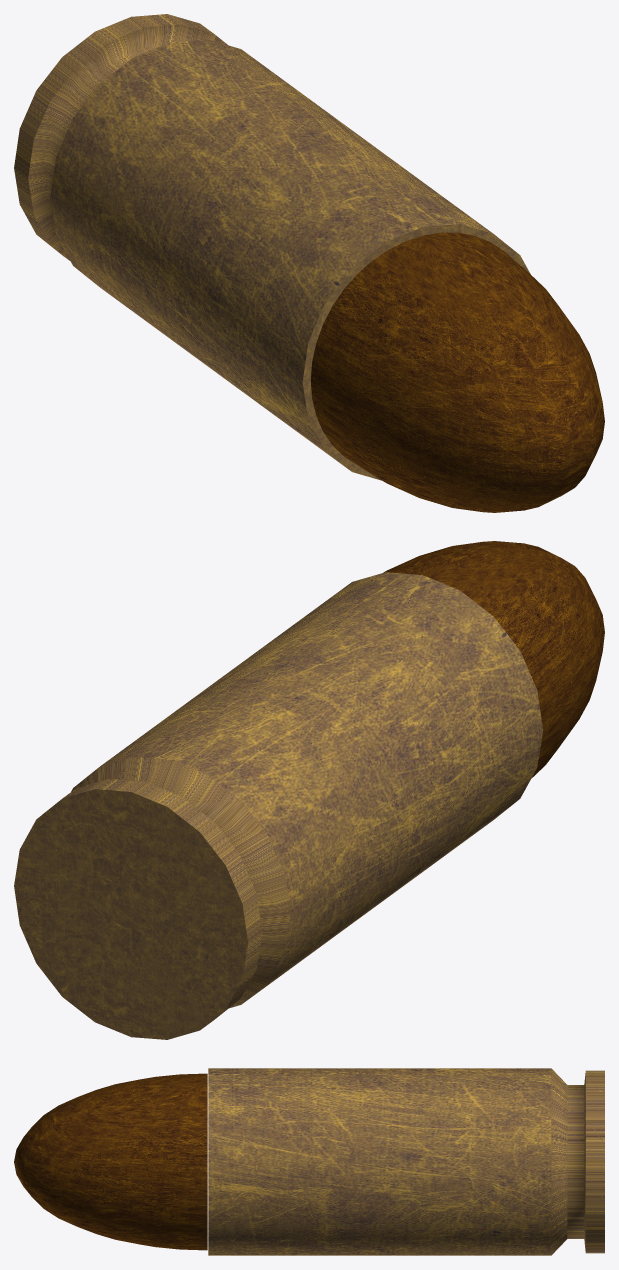
Rendered from bullet.fbx.
3 views of the same model, one above another, from view 1: azimuth 30°, elevation 25°; view 2: azimuth 150°, elevation 25°; view 3: azimuth 270°, elevation 25° (orthographic). The views are drawn at different scales.
Visible parts, largest first — view 1: pCylinder1, pSphere1; view 2: pCylinder1, pSphere1; view 3: pCylinder1, pSphere1.
Part boxes in pixels (x1,y1,x2,y2): pCylinder1: [14, 14, 530, 480]; pSphere1: [310, 232, 604, 512]; pCylinder1: [14, 572, 542, 1039]; pSphere1: [383, 541, 604, 778]; pCylinder1: [208, 1068, 604, 1255]; pSphere1: [14, 1073, 207, 1250].
Bounding box in the file's own units: 2.13 × 2.13 × 6.68.
2 materials, 2 textured.
